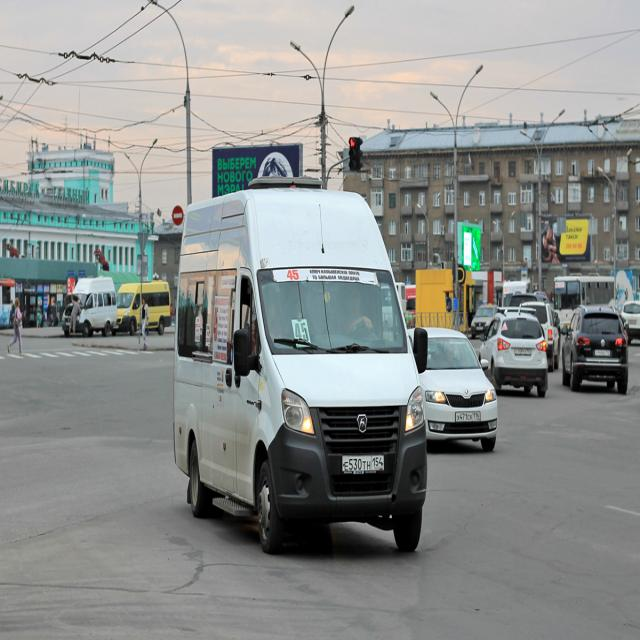number-of-bus: (294, 322, 311, 346), (287, 269, 301, 283)
